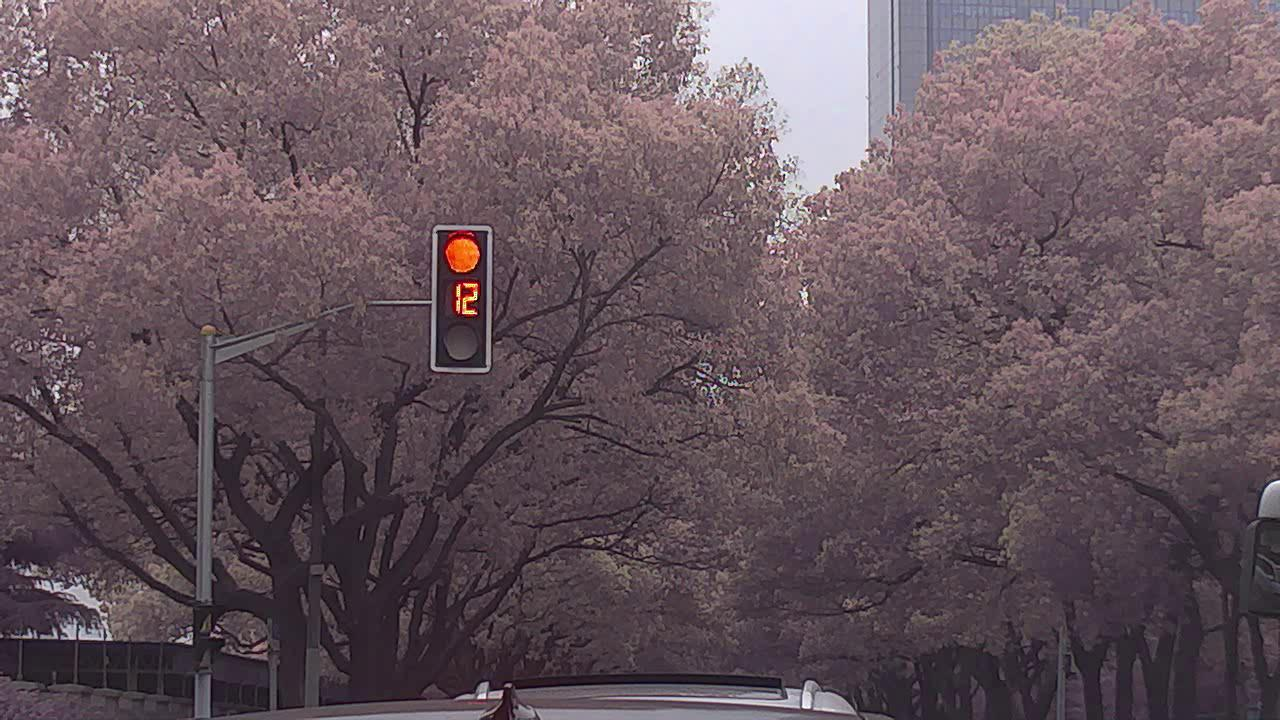traffic_light: (434, 224, 496, 373)
